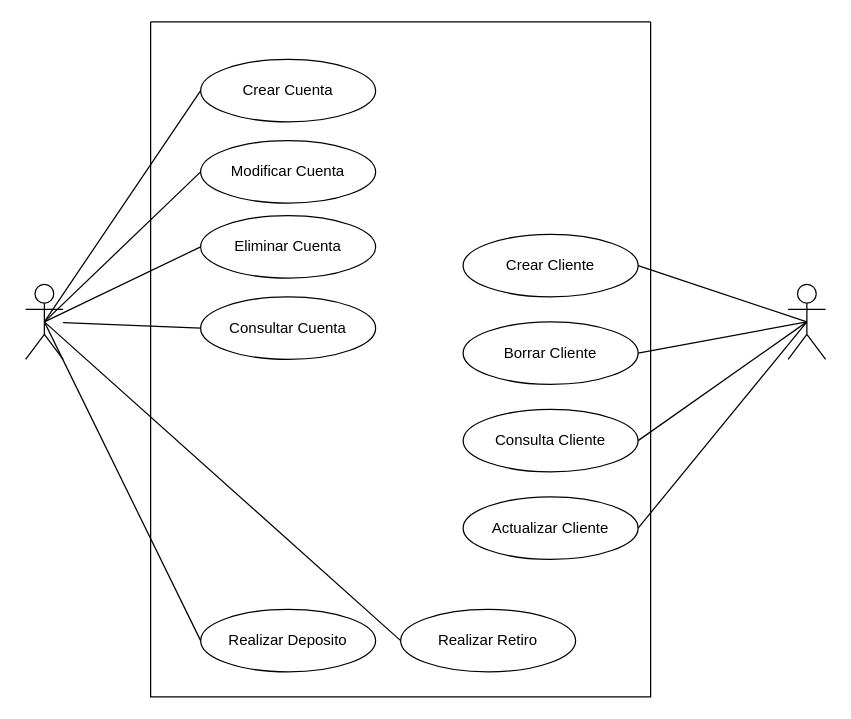
Image size: 851x719. Some labels were removed from this diagram. The centre of each missing label's shape, as x and y in pixels:
"Cliente" goes at point (43, 321).
"Gestor" goes at point (806, 321).
